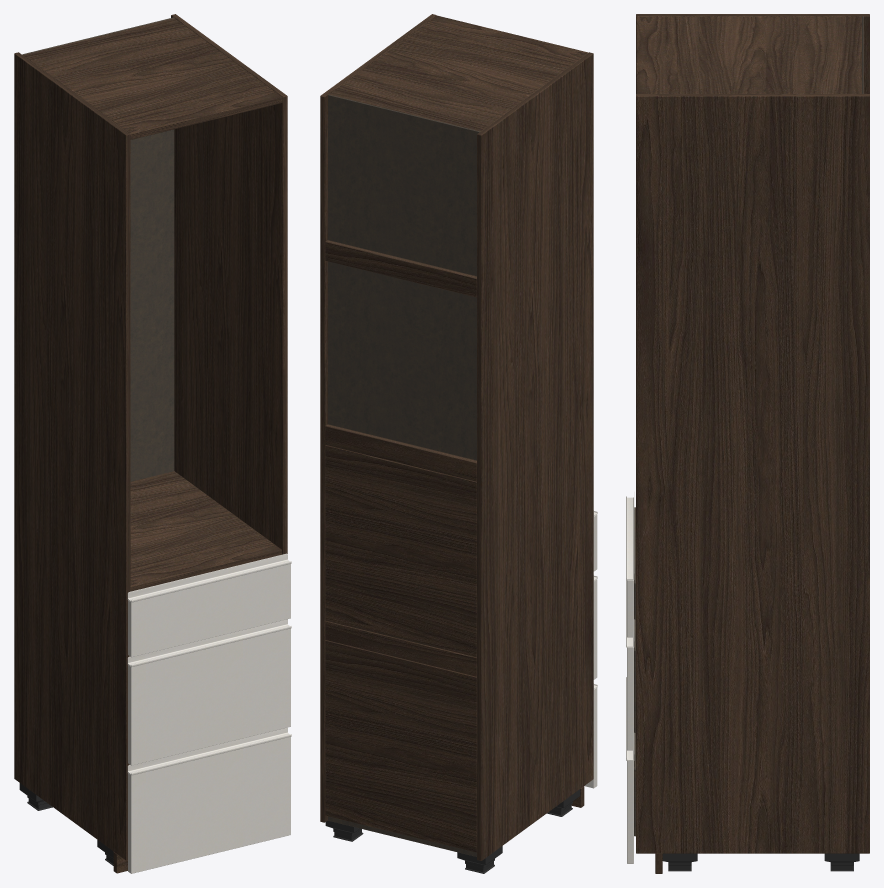
3 renders of one model, left to right at view 1: azimuth 30°, elevation 25°; view 2: azimuth 150°, elevation 25°; view 3: azimuth 270°, elevation 25°, orthographic. The views are drawn at different scales.
Visible parts, largest first — view 1: HK1001273; view 2: HK1001273; view 3: HK1001273.
Boxes of the visible parts, <box> form: HK1001273: <box>14,14,291,873</box>; HK1001273: <box>320,14,597,873</box>; HK1001273: <box>626,14,869,873</box>.
Bounding box in the file's own units: 0.5 × 2.2 × 0.6256.
8 materials, 7 textured.
